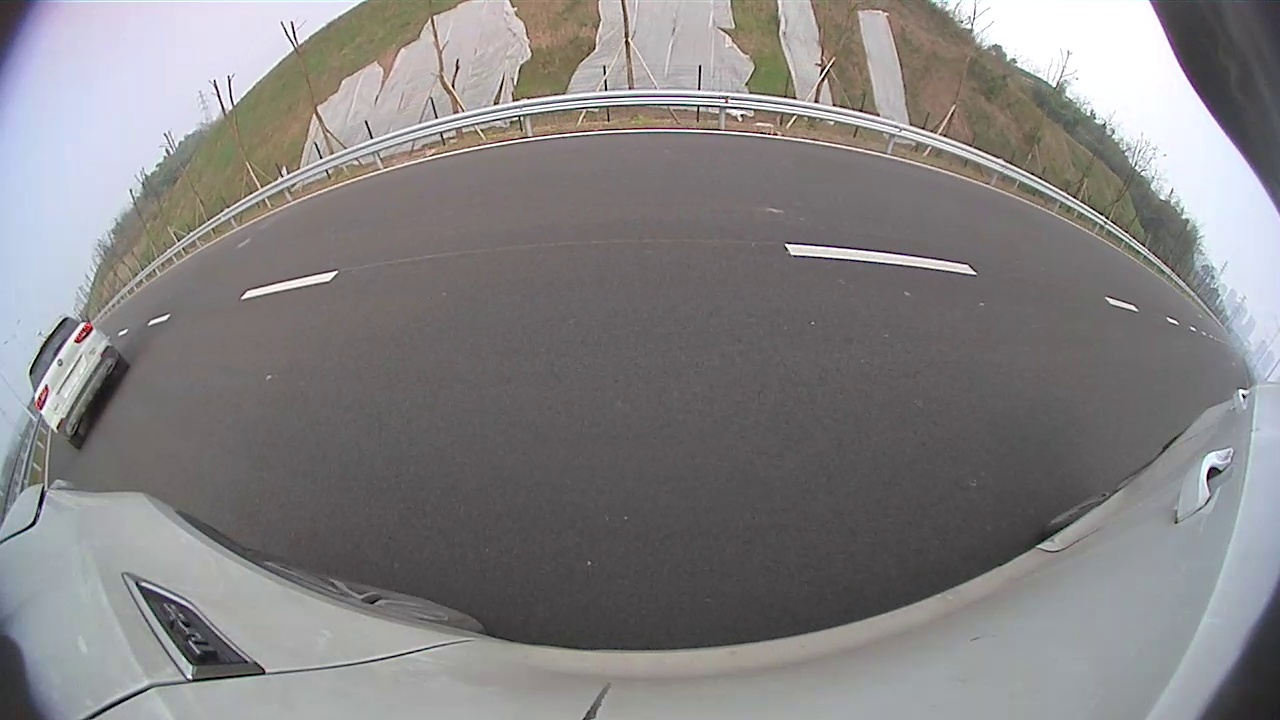car: (28, 316, 131, 450)
